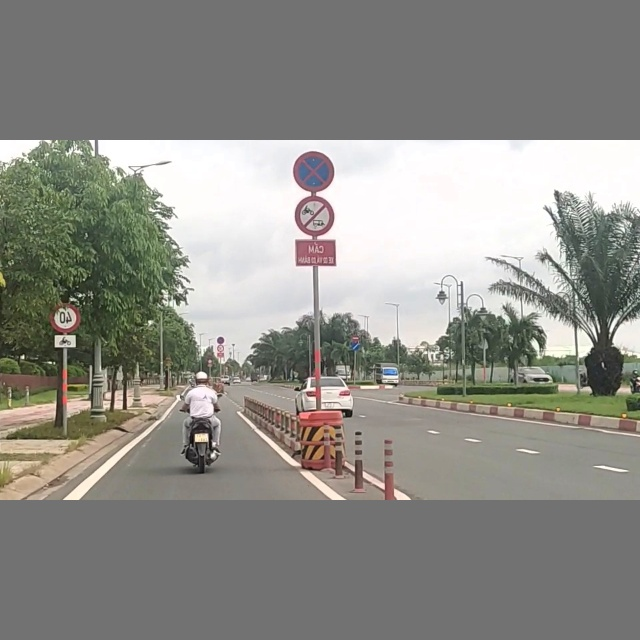P.111: (293, 196, 337, 239)
P.127*40: (50, 304, 80, 333)
P.130: (293, 149, 337, 194)
S.505a*Xe may: (52, 334, 79, 350)
